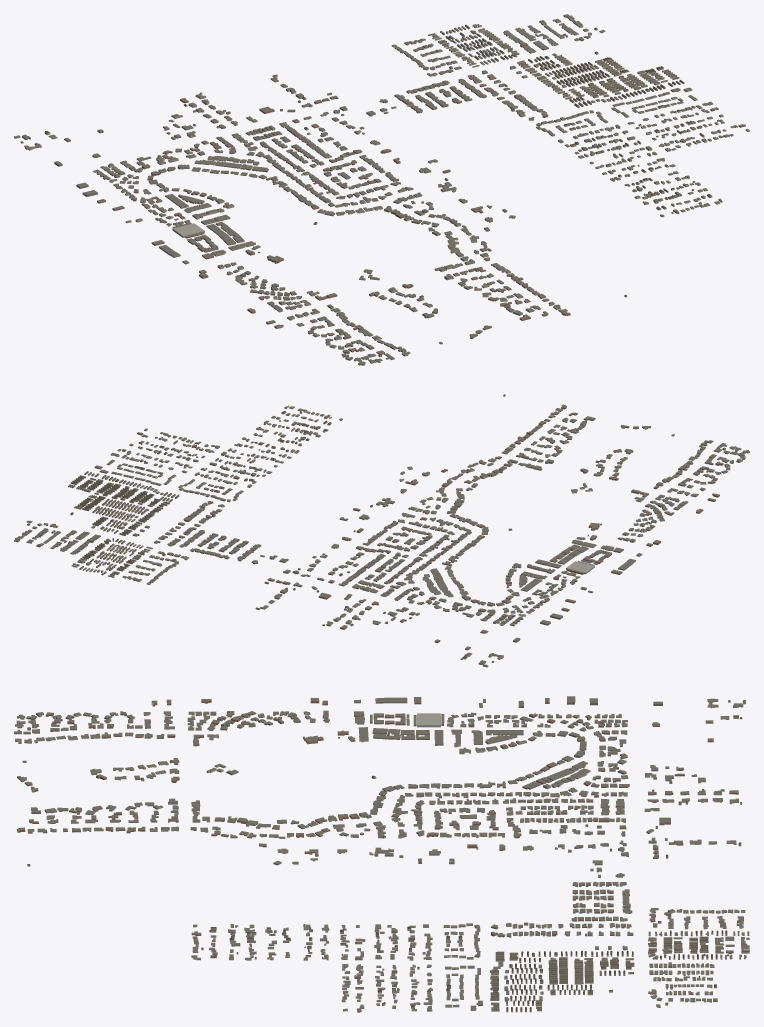
Rendered from Buildings.glb.
3 renders of one model, top to bottom at view 1: azimuth 30°, elevation 25°; view 2: azimuth 150°, elevation 25°; view 3: azimuth 270°, elevation 25°, orthographic. The views are drawn at different scales.
Visible parts, largest first — view 1: Buildings; view 2: Buildings; view 3: Buildings.
Boxes of the visible parts, box(x1,y1,x2,y2) form: Buildings: box(14, 14, 749, 365); Buildings: box(14, 394, 749, 667); Buildings: box(14, 696, 749, 1012).
Bounding box in the file's own units: 2030 × 9.68 × 2008.
Materials: 12 (7 with a texture image).
